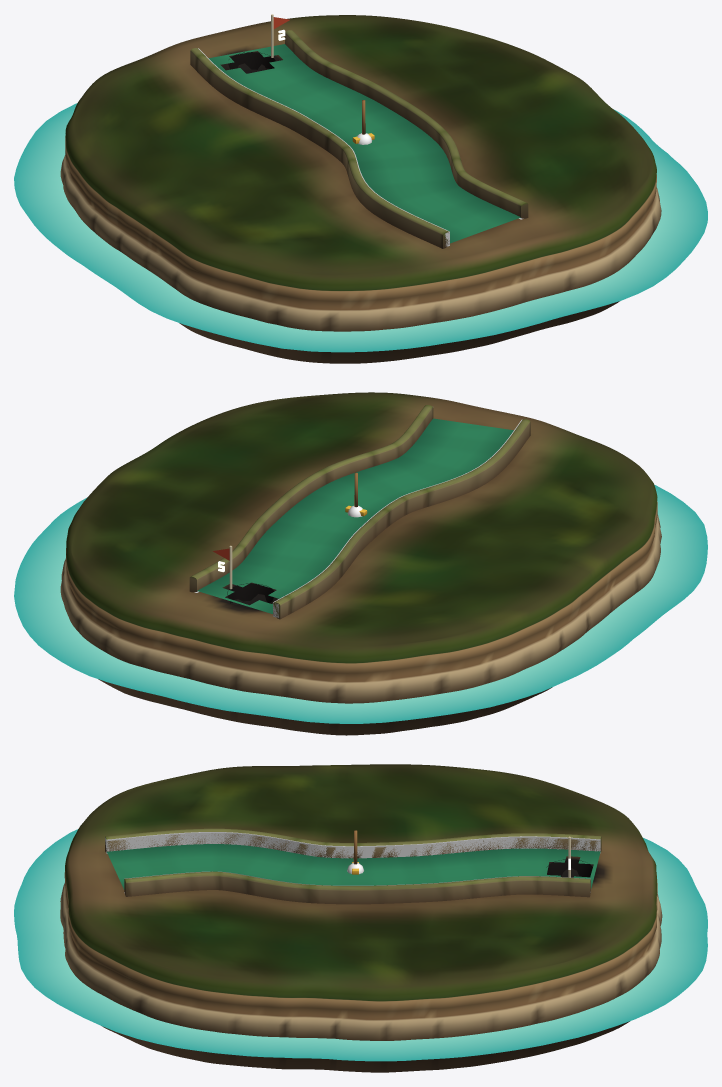
File: course-02.glb
3 renders of one model, top to bottom at view 1: azimuth 30°, elevation 25°; view 2: azimuth 150°, elevation 25°; view 3: azimuth 270°, elevation 25°, orthographic.
Visible parts, largest first — view 1: scenery-matte, water-shore, surface-grass, rail-trim-left, rail-trim-right; view 2: scenery-matte, water-shore, surface-grass, rail-trim-left, rail-trim-right; view 3: scenery-matte, water-shore, surface-grass, rail-trim-right, rail-left, rail-trim-left.
Boxes of the visible parts, box(x1,y1,x2,y2) form: scenery-matte: box(60, 15, 661, 363); water-shore: box(14, 103, 707, 352); surface-grass: box(209, 44, 520, 243); rail-trim-left: box(190, 48, 449, 248); rail-trim-right: box(285, 30, 528, 218); scenery-matte: box(60, 392, 661, 735); water-shore: box(14, 485, 707, 723); surface-grass: box(197, 418, 513, 613); rail-trim-left: box(273, 419, 530, 619); rail-trim-right: box(189, 405, 433, 592); scenery-matte: box(60, 764, 662, 1072); water-shore: box(14, 829, 707, 1061); surface-grass: box(107, 844, 600, 889); rail-trim-right: box(124, 871, 590, 904); rail-left: box(105, 832, 600, 858); rail-trim-left: box(105, 828, 601, 858).
Bounding box in the file's own units: 11.83 × 3.06 × 12.86.
